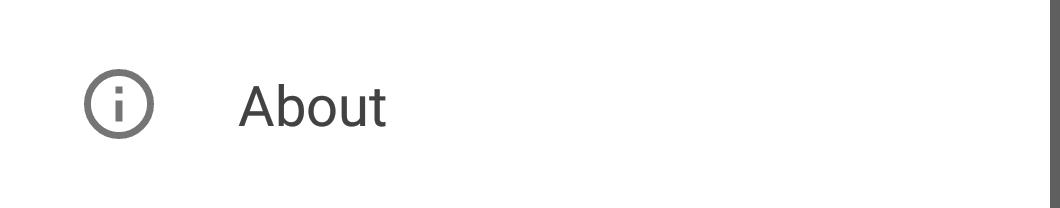CheckedTextView: (1, 1, 1059, 207)
